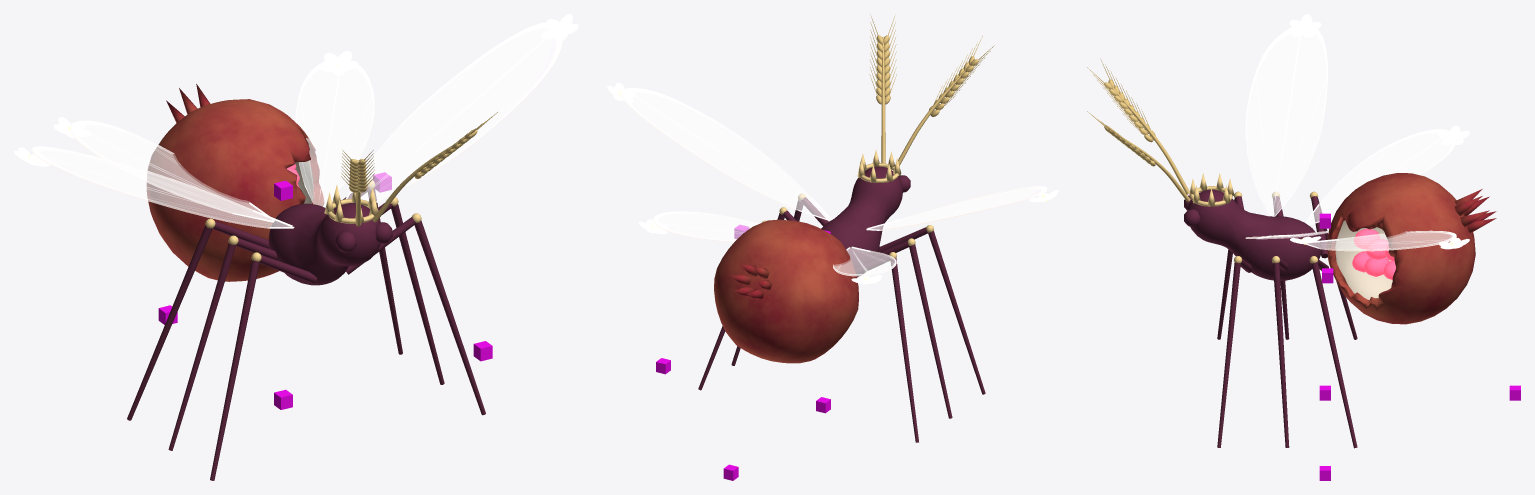
Rendered from 04_persefone_melagrana.glb.
The picture shows the model from 3 angles, left to right: view 1: azimuth 30°, elevation 25°; view 2: azimuth 150°, elevation 25°; view 3: azimuth 270°, elevation 25°; orthographic projection. The views are drawn at different scales.
Visible parts, largest first — view 1: Persefone__Ali_Sottili, Persefone__Buccia_Melagrana, Persefone__Chitina_Prugna, Persefone__Spighe_Grano, Persefone__Fiori_Petali, Persefone__Oro; view 2: Persefone__Buccia_Melagrana, Persefone__Ali_Sottili, Persefone__Chitina_Prugna, Persefone__Spighe_Grano, Persefone__Oro, Persefone__Fiori_Petali; view 3: Persefone__Ali_Sottili, Persefone__Buccia_Melagrana, Persefone__Chitina_Prugna, Persefone__Spighe_Grano, Persefone__Albedo, Persefone__Semi_Rubino, Persefone__Oro, Persefone__Fiori_Petali.
Boxes of the visible parts, x1,y1,x2,y2 form: Persefone__Ali_Sottili: (31,22,563,228); Persefone__Buccia_Melagrana: (147,84,323,281); Persefone__Chitina_Prugna: (127,186,485,480); Persefone__Spighe_Grano: (341,112,497,226); Persefone__Fiori_Petali: (14,14,578,166); Persefone__Oro: (205,180,421,261); Persefone__Buccia_Melagrana: (714,219,858,363); Persefone__Ali_Sottili: (621,87,1047,276); Persefone__Chitina_Prugna: (698,166,985,442); Persefone__Spighe_Grano: (869,14,994,165); Persefone__Oro: (761,149,933,258); Persefone__Fiori_Petali: (607,82,1058,284); Persefone__Ali_Sottili: (1245,24,1456,251); Persefone__Buccia_Melagrana: (1327,173,1496,324); Persefone__Chitina_Prugna: (1184,189,1357,448); Persefone__Spighe_Grano: (1087,58,1190,201); Persefone__Albedo: (1335,220,1392,299); Persefone__Semi_Rubino: (1352,228,1395,279); Persefone__Oro: (1189,173,1317,263); Persefone__Fiori_Petali: (1289,14,1469,249).
Size of the model in its own units: 4.19 by 2.7 by 3.43.
10 materials, 2 textured.
